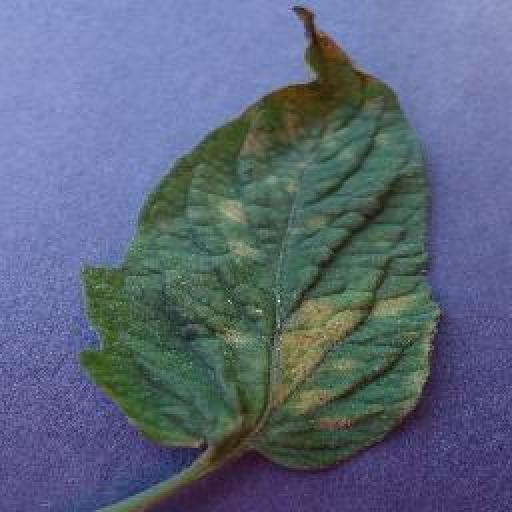Leaf Mold: (76, 5, 443, 471)
